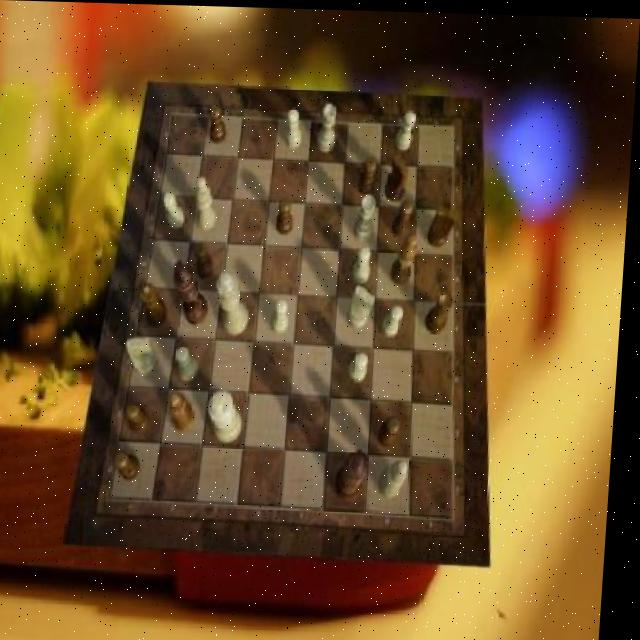bishop: (392, 231, 419, 284), (173, 391, 201, 431)
black-bishop: (174, 260, 214, 325)
black-king: (429, 203, 461, 246), (386, 152, 411, 200)
black-knight: (119, 451, 148, 481), (130, 402, 156, 435), (394, 197, 416, 235), (209, 104, 229, 144), (197, 242, 219, 278), (382, 414, 407, 445), (359, 155, 378, 193), (277, 196, 296, 233)
black-pawn: (341, 447, 376, 500)
black-queen: (144, 282, 173, 327), (429, 287, 458, 330)
black-rook: (194, 175, 220, 230), (384, 457, 413, 496)
white-bishop: (211, 390, 249, 444)
white-king: (128, 336, 163, 377), (351, 283, 380, 327)
white-knight: (162, 190, 187, 227), (396, 108, 418, 148), (179, 345, 204, 380), (385, 303, 408, 338), (355, 244, 374, 282), (287, 107, 305, 147), (275, 296, 294, 333), (352, 350, 373, 382)
white-pawn: (217, 269, 254, 335)
white-queen: (355, 193, 378, 241), (320, 102, 340, 151)
